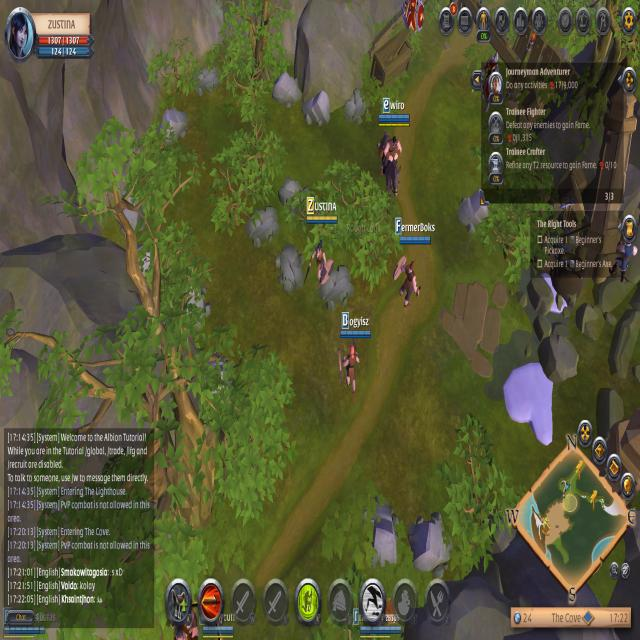broken stone: (188, 49, 224, 106), (319, 264, 357, 316), (247, 203, 281, 254), (278, 169, 311, 221), (343, 81, 371, 134), (277, 247, 306, 298)
stone: (362, 495, 404, 572), (410, 507, 452, 575), (154, 104, 192, 154), (270, 65, 304, 116), (455, 186, 491, 232), (304, 86, 334, 134)
